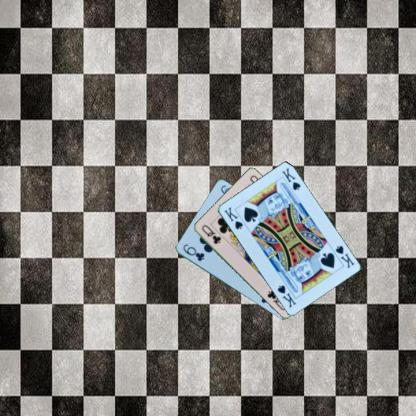6c: (180, 242, 206, 262)
Ks: (221, 204, 244, 230), (332, 243, 355, 269)
Qc: (199, 222, 222, 245)
